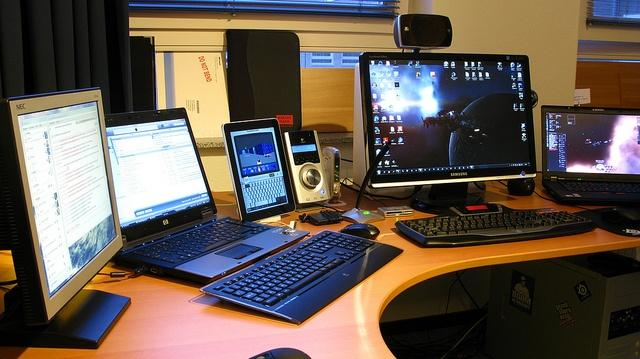AIO PC-Monitor-TV: (0, 85, 124, 322), (359, 51, 537, 187)
